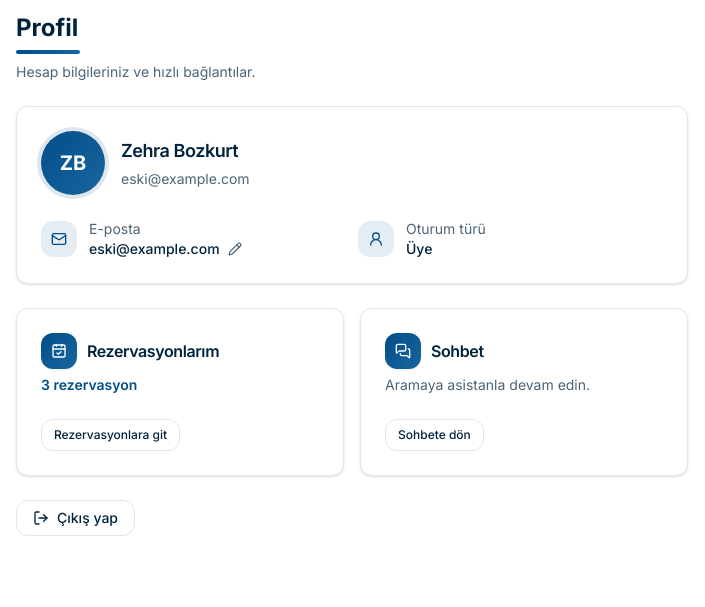
ProfilePage e-posta düzenleme › geçerli yeni e-postayı kaydeder ve Redux’ı günceller
Click the button named "E-postayı düzenle": (235, 249) 228,242 -> 242,256
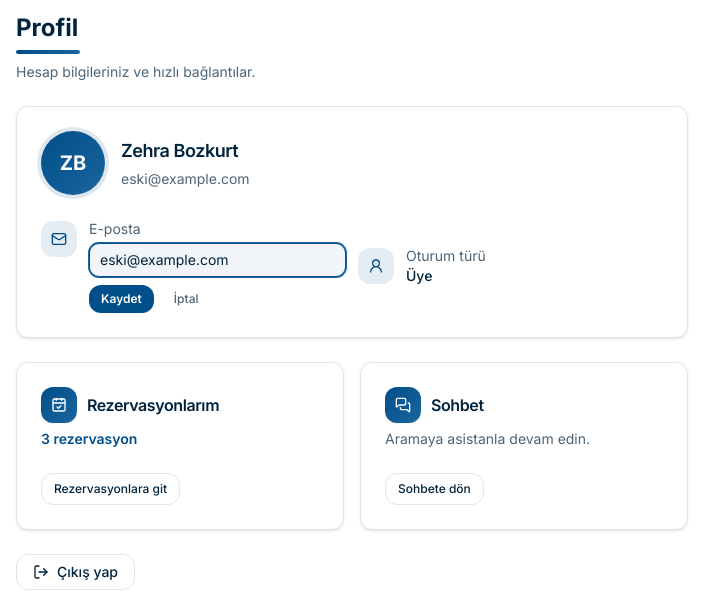
Replace the text in the field named "E-posta" with "yeni@example.com": (218, 260) 89,243 -> 346,277
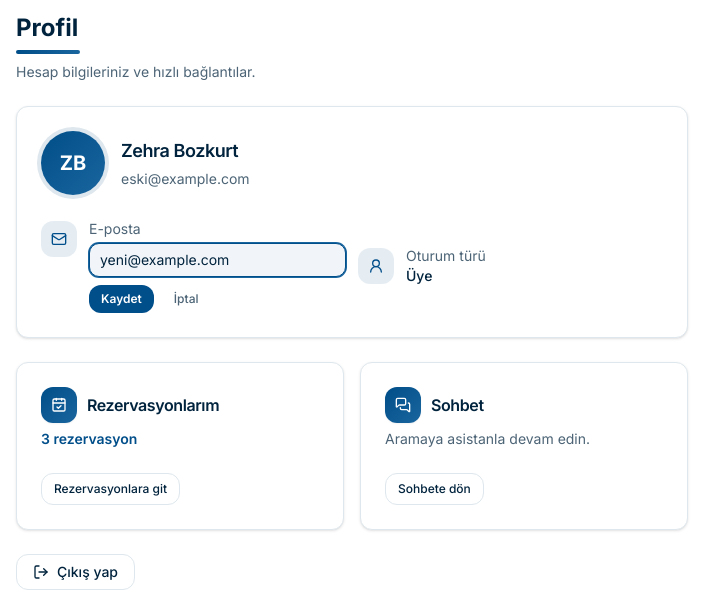
Click the button "Kaydet": (121, 299) 89,285 -> 154,313
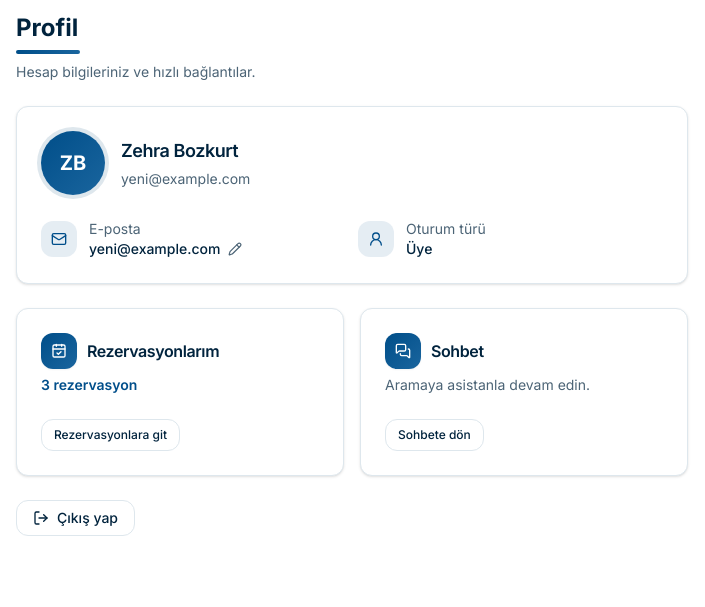
Result: the text "yeni@example.com" below "Zehra Bozkurt" is shown at 121,170 -> 250,187
Result: the button "Kaydet" is gone
